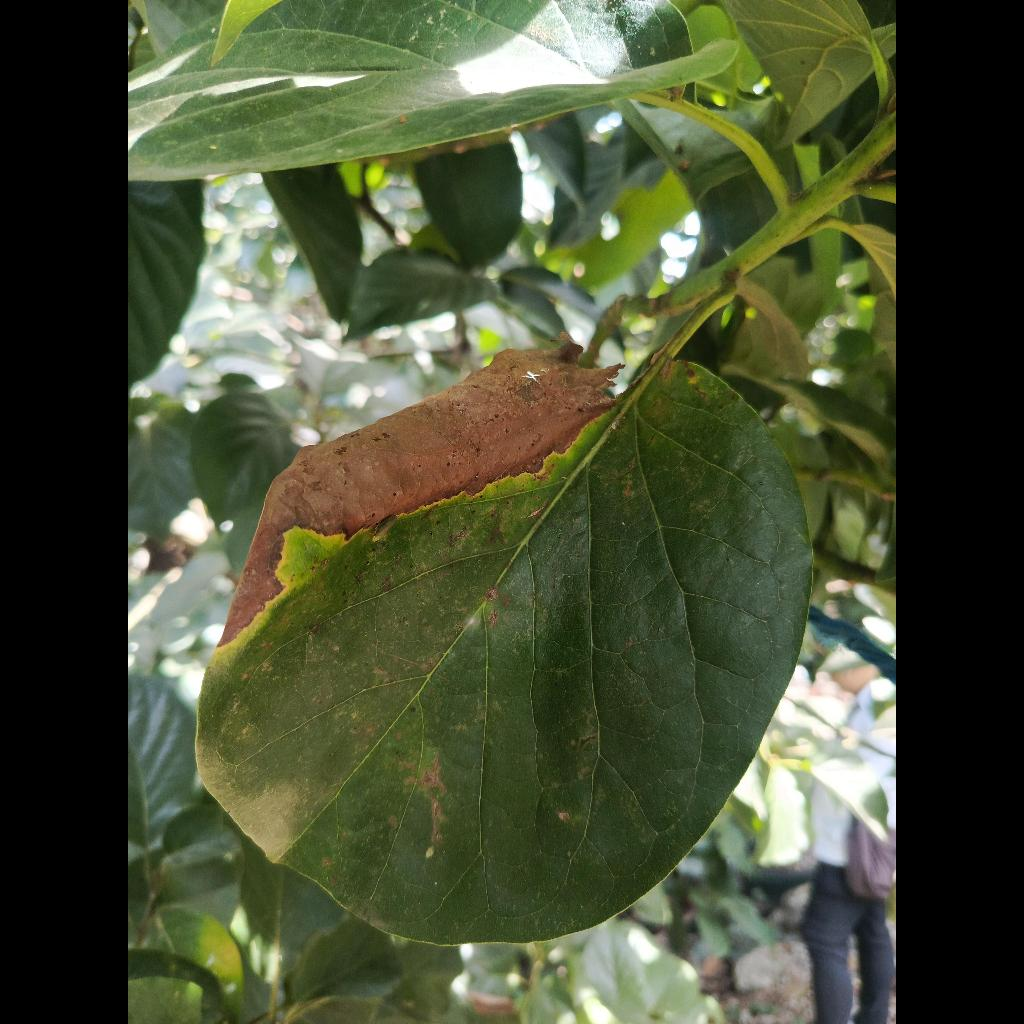antracnosis_hoja: (196, 342, 812, 944)
